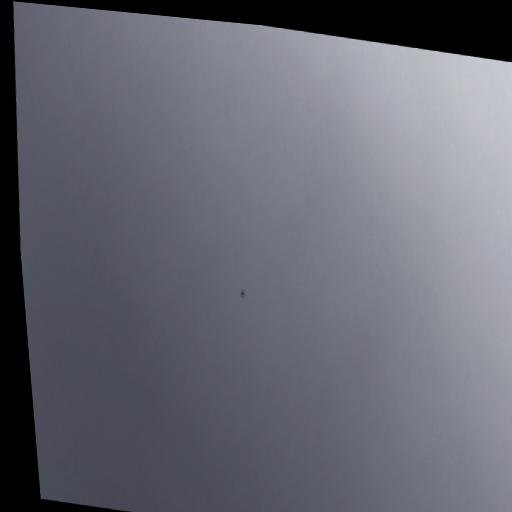drones: (238, 288, 247, 301)
